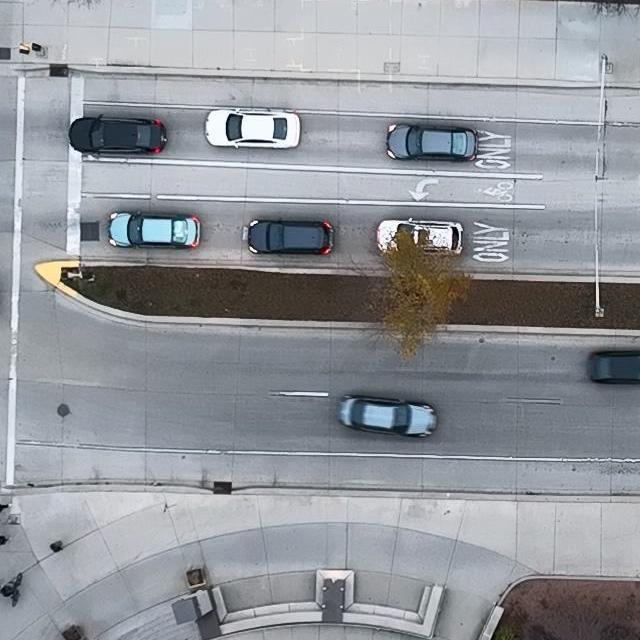car: (337, 393, 438, 437), (67, 113, 167, 155), (205, 108, 301, 150), (108, 209, 201, 251), (386, 123, 478, 163), (375, 216, 463, 257), (248, 218, 334, 255), (586, 348, 640, 385)
